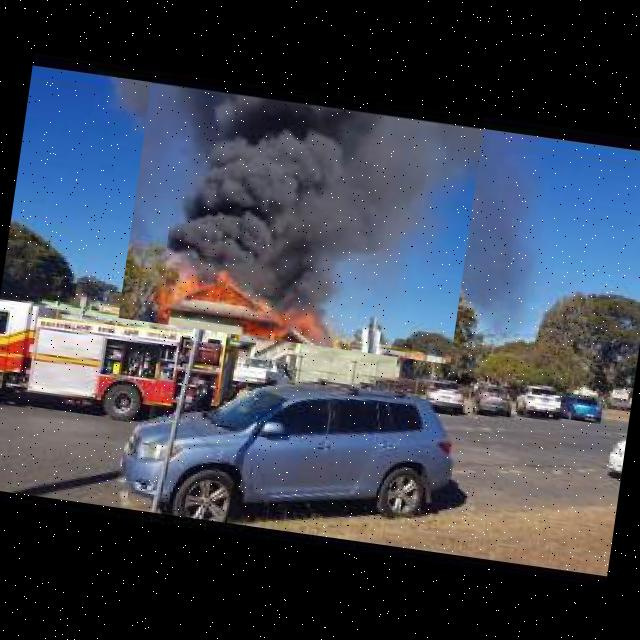fire: (118, 68, 486, 364)
